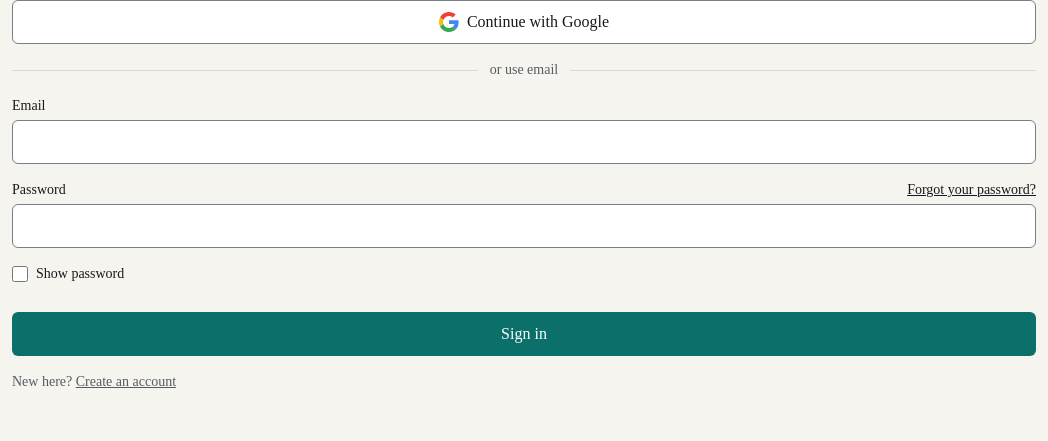
LoginForm › shows a Retry-After countdown on 429
In the field labelled "Email": (524, 142) 12,120 -> 1036,164, type "ada@example.com"
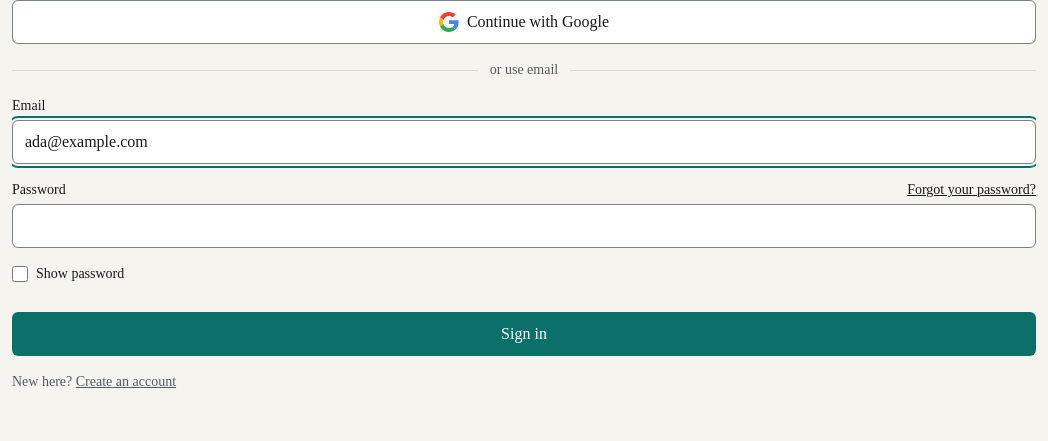
In the password field labelled "Password": (524, 226) 12,204 -> 1036,248, type "x"
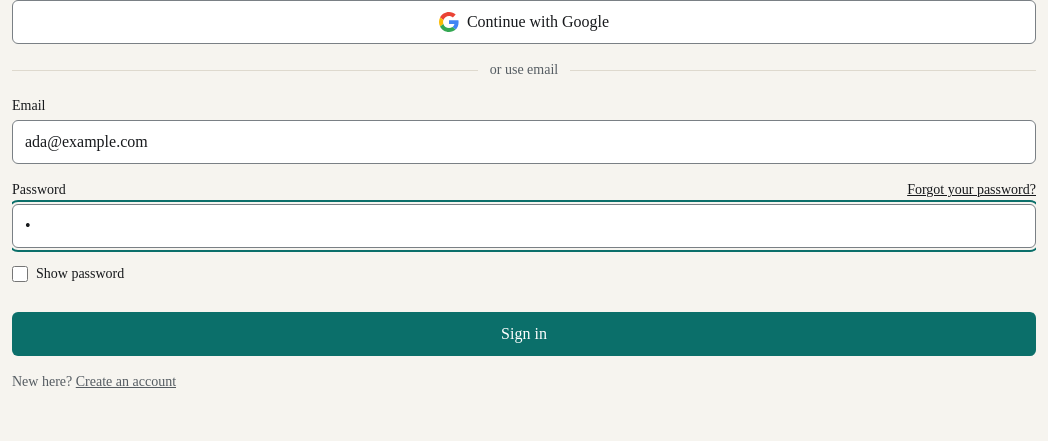
Click the button "Sign in": (524, 334) 12,312 -> 1036,356
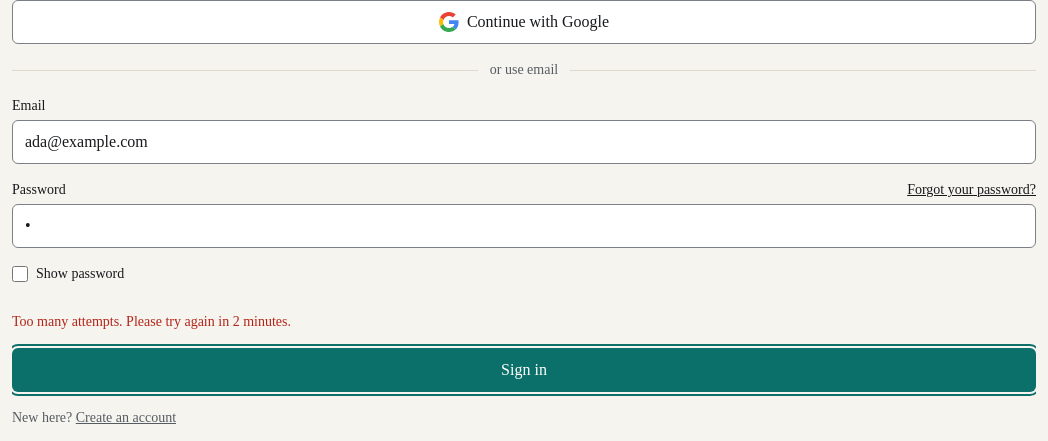
Expected: the message shows "2 minutes", 12,314 -> 291,329
